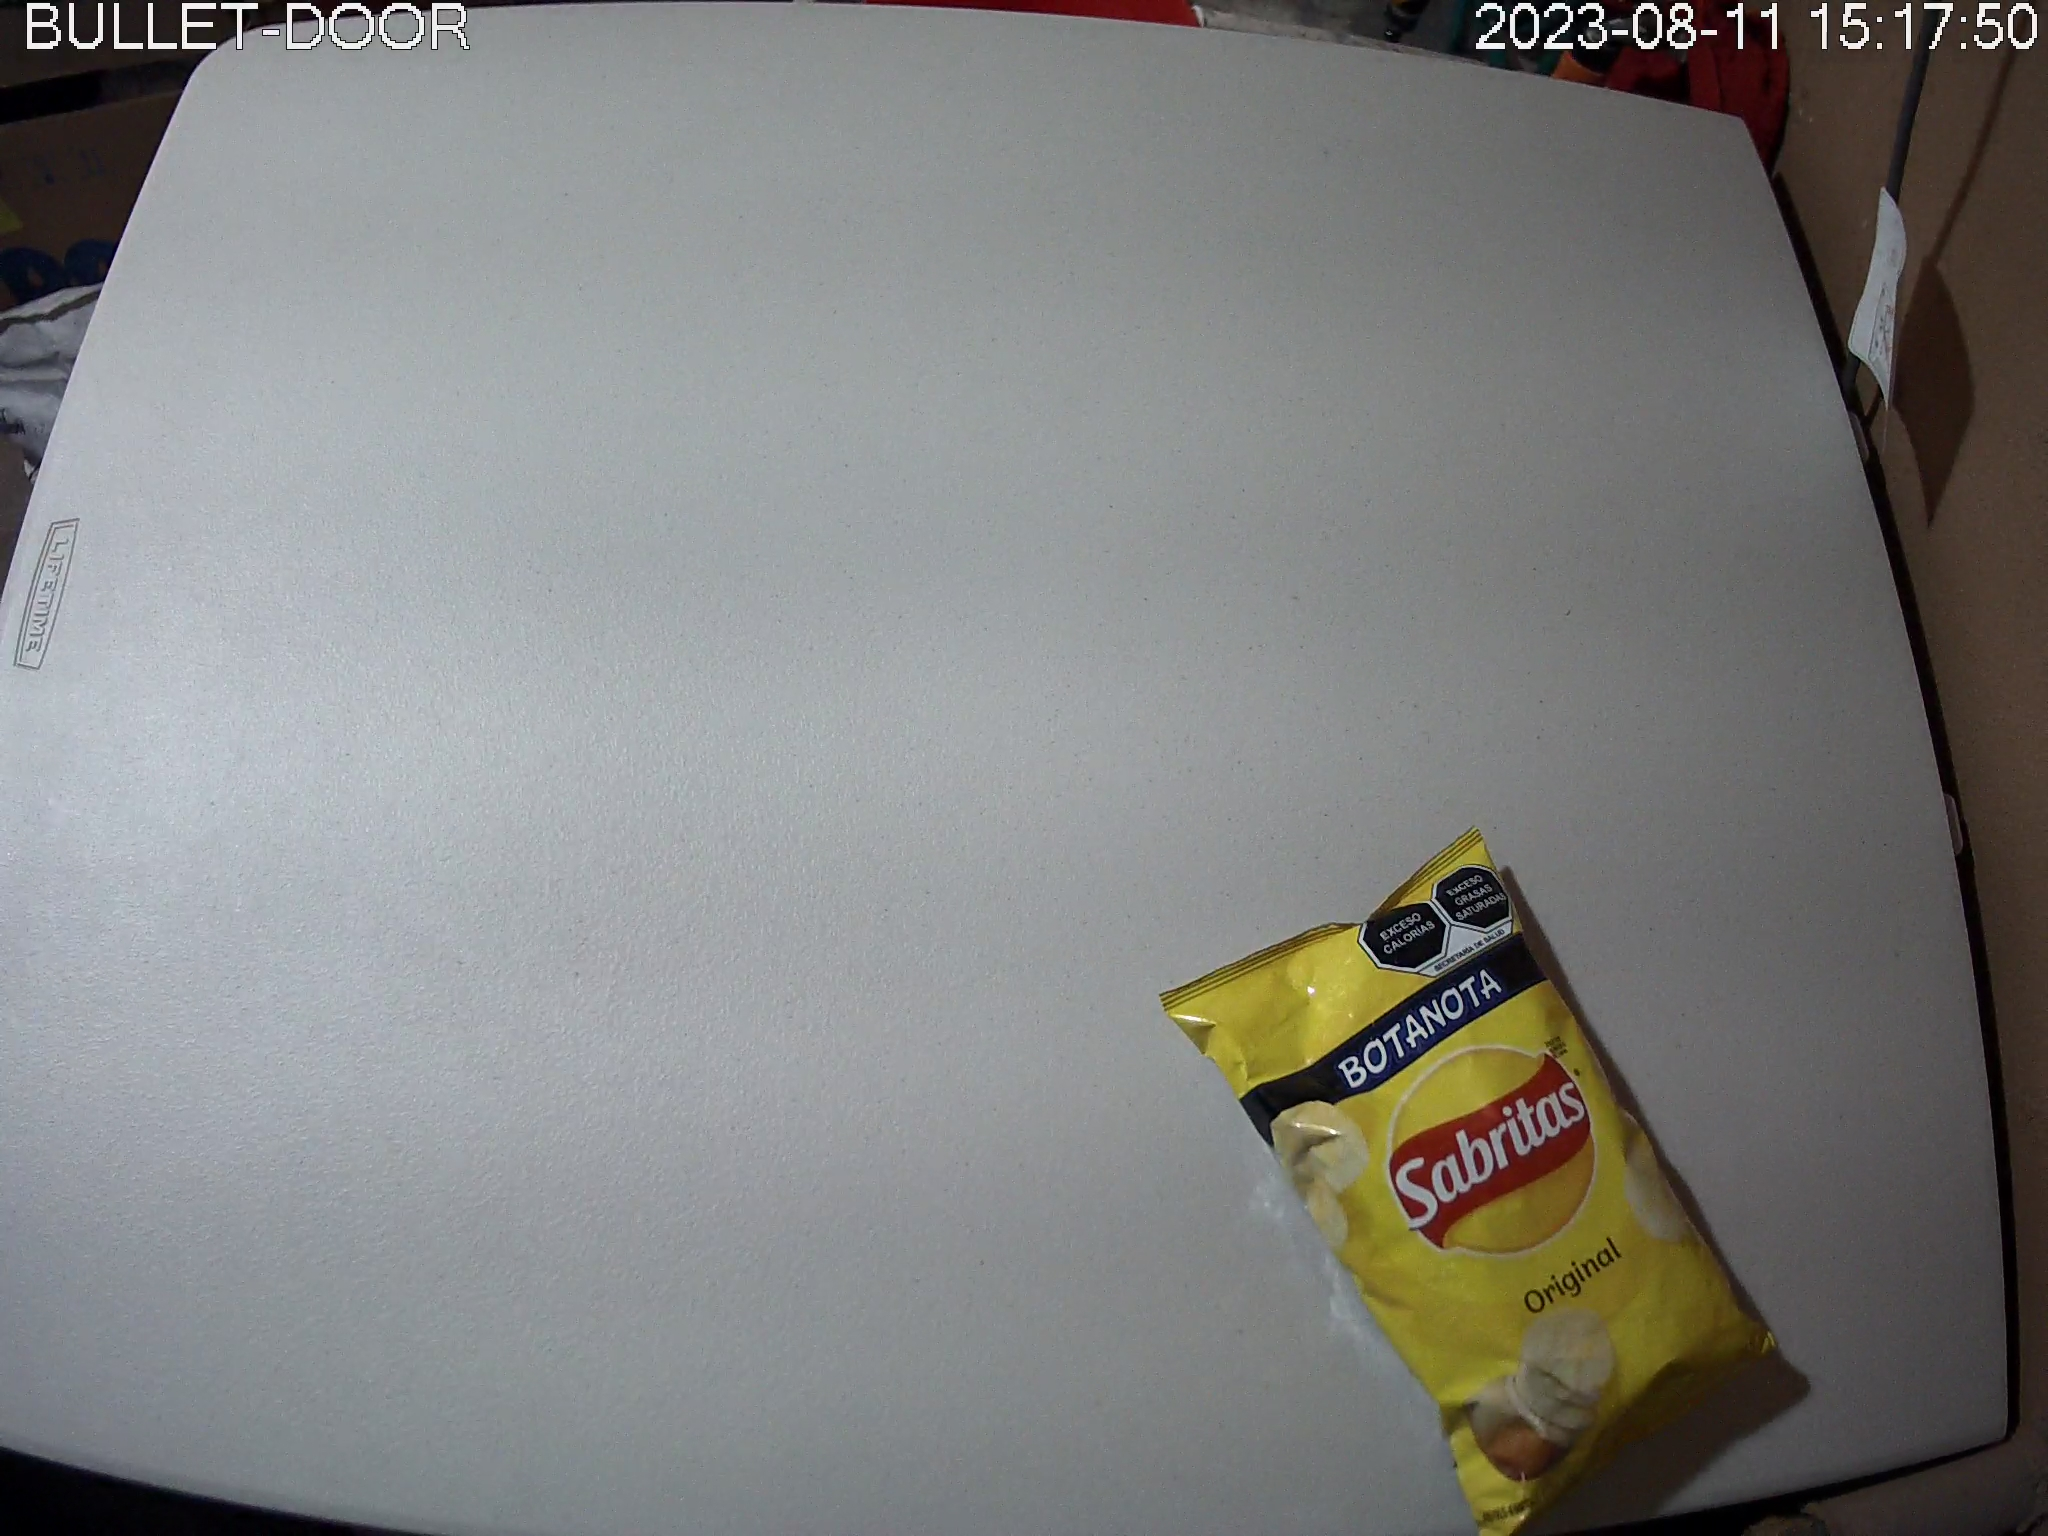Sabritas_64_F: (1159, 828, 1779, 1536)
